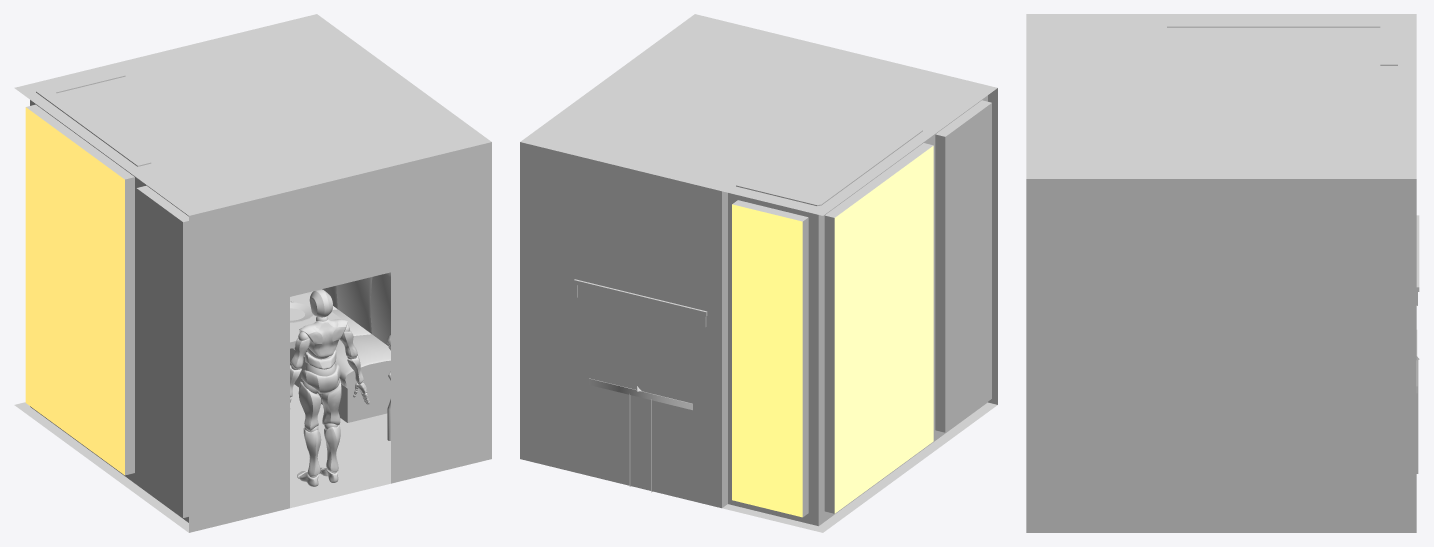
Rendered from Dinner_room.fbx.
3 renders of one model, left to right at view 1: azimuth 30°, elevation 25°; view 2: azimuth 150°, elevation 25°; view 3: azimuth 270°, elevation 25°, orthographic. The views are drawn at different scales.
Visible parts, largest first — view 1: Wall, Men, Bench_1, Cube.001, Bench_0, Table_1; view 2: Wall, Cube.001, Shelf, Table_1; view 3: Wall, Cube.001.
Part boxes in pixels (box(x1,y1,x2,y2)): Wall: box(14, 14, 491, 532); Men: box(290, 289, 369, 486); Bench_1: box(292, 272, 390, 388); Cube.001: box(36, 70, 151, 166); Bench_0: box(290, 348, 390, 422); Table_1: box(290, 293, 341, 348); Wall: box(520, 14, 997, 532); Cube.001: box(736, 127, 922, 205); Shelf: box(574, 279, 707, 316); Table_1: box(589, 378, 692, 410); Wall: box(1026, 14, 1416, 532); Cube.001: box(1167, 19, 1397, 65).
Size of the model in its own units: 300 by 302 by 302.
